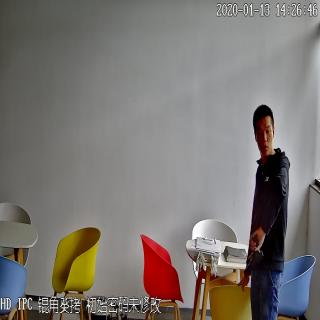gun: (244, 231, 264, 277)
